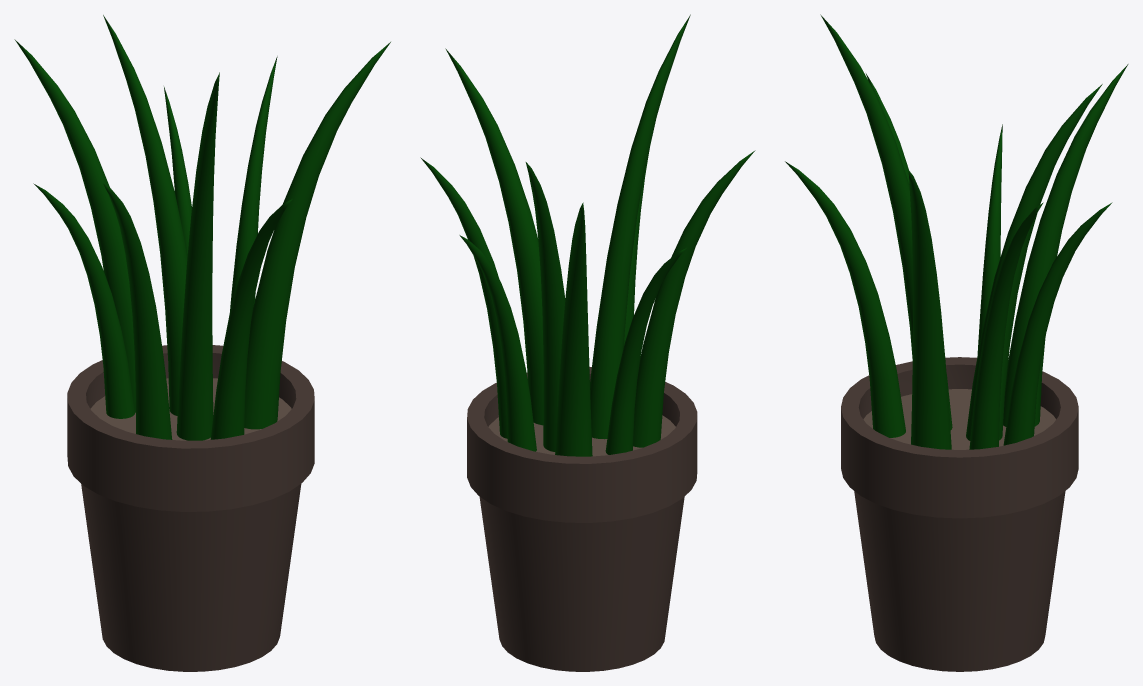
The model's file is Plante4_7.fbx.
3 views of the same model, side by side, from view 1: azimuth 30°, elevation 25°; view 2: azimuth 150°, elevation 25°; view 3: azimuth 270°, elevation 25° (orthographic). The views are drawn at different scales.
Parts seen in each view (by area): view 1: pCylinder725, pCone27, pCone28, pCone25, pCone21, pCone22, pCone20, pCone23, pCone24, pCone26, pCylinder724; view 2: pCylinder725, pCone28, pCone27, pCone21, pCone22, pCone25, pCone26, pCone23, pCone24, pCylinder724, pCone20; view 3: pCylinder725, pCone27, pCone20, pCone22, pCone26, pCone24, pCone28, pCone25, pCone23, pCylinder724.
Boxes of the visible parts, x1,y1,x2,y2 form: pCylinder725: (67,345,314,671); pCone27: (244,42,390,429); pCone28: (176,72,219,440); pCone25: (103,15,187,415); pCone21: (103,183,172,439); pCone22: (14,39,135,412); pCone20: (210,199,292,439); pCone23: (33,183,135,418); pCone24: (230,56,277,311); pCone26: (164,87,191,255); pCylinder724: (90,378,291,440); pCylinder725: (467,366,697,671); pCone28: (590,14,690,439); pCone27: (445,48,543,425); pCone21: (633,150,755,447); pCone22: (555,202,592,456); pCone25: (525,162,565,451); pCone26: (459,235,536,451); pCone23: (605,247,687,454); pCone24: (420,157,507,438); pCylinder724: (488,415,675,456); pCone20: (624,149,649,345); pCylinder725: (841,357,1078,671); pCone27: (908,170,951,449); pCone20: (785,161,905,437); pCone22: (1003,64,1128,426); pCone26: (1003,202,1112,445); pCone24: (969,202,1043,449); pCone28: (820,14,952,429); pCone25: (966,84,1102,440); pCone23: (977,124,1002,356); pCylinder724: (863,389,1055,449).
Size of the model in its own units: 16.25 by 31.25 by 16.23.
